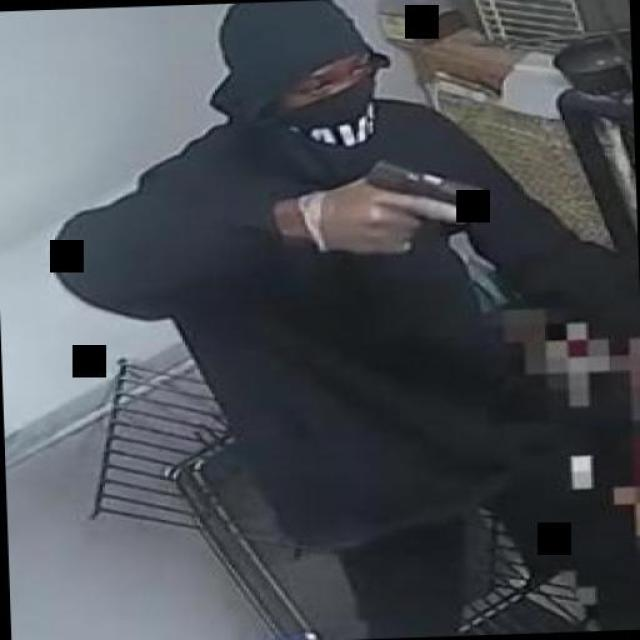gun: (319, 150, 495, 258)
